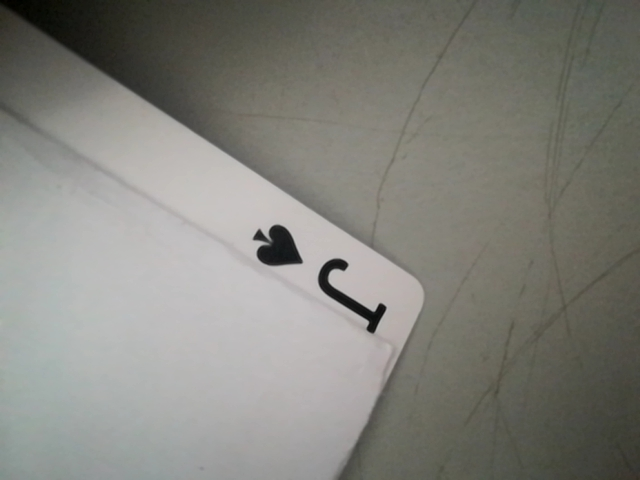ht j: (232, 220, 412, 336)
